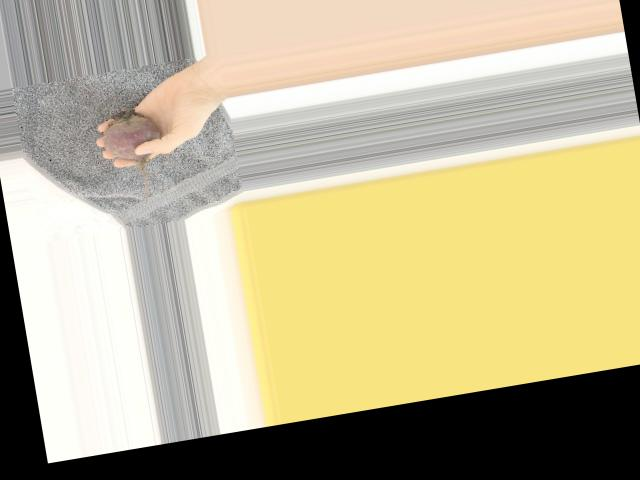beet: (98, 104, 171, 208)
